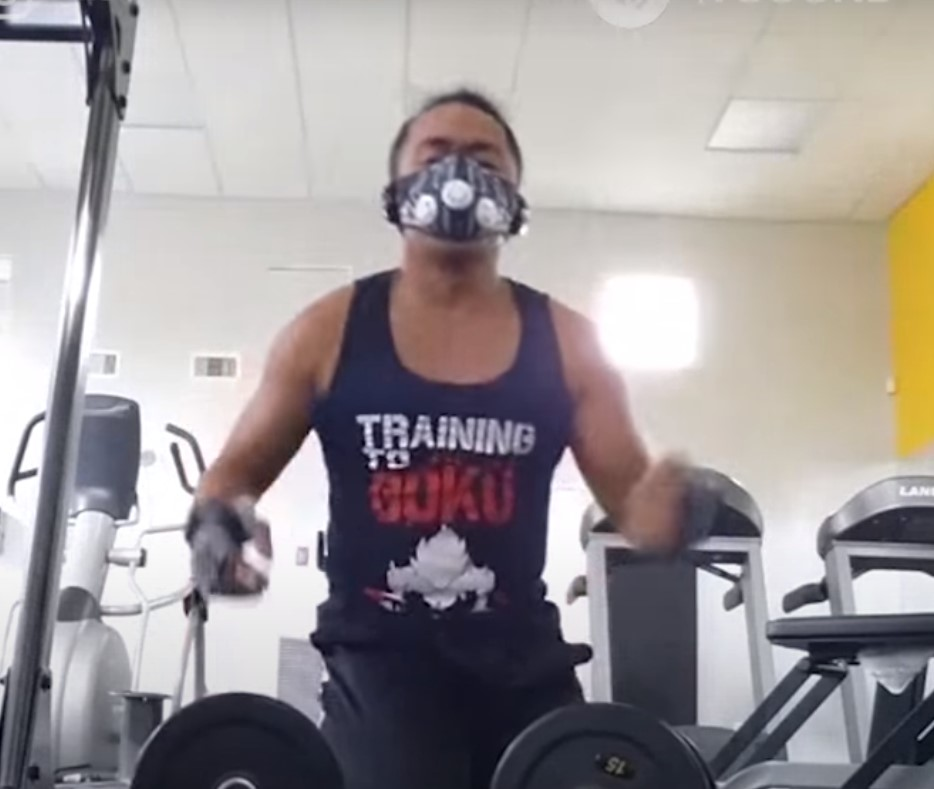face_with_mask: (379, 83, 539, 265)
